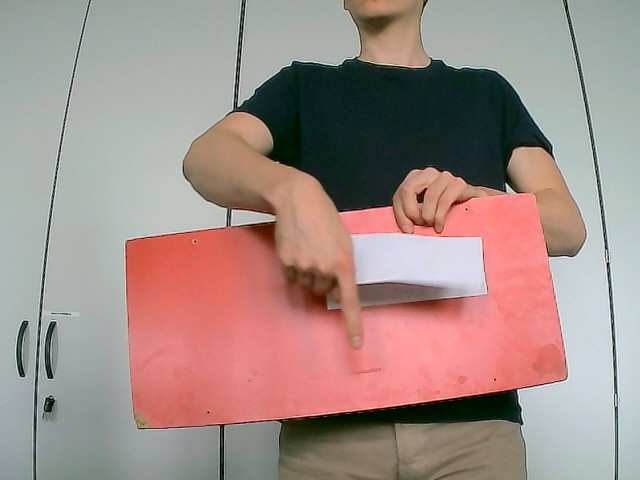down: (271, 173, 366, 350)
no_gesture: (390, 162, 482, 235)
